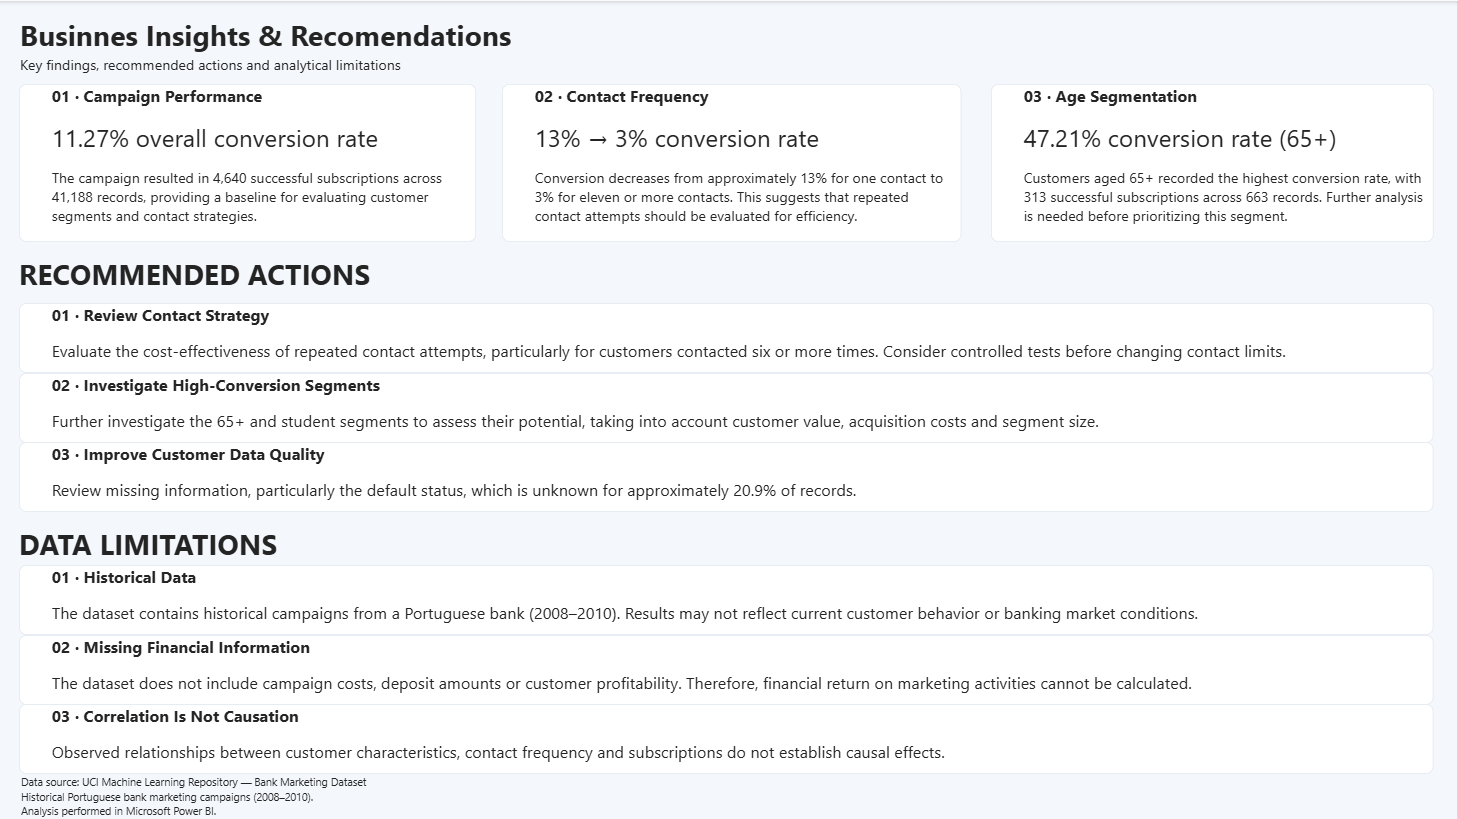

What the dashboard file says about the page in this screenshot:
{"tool":"powerbi","page":{"name":"Business Insights","canvas":[1920,1080],"ordinal":2},"visuals":[{"type":"textbox","box":[26.7,20,668.3,63.3],"z":0},{"type":"textbox","box":[26.7,71.7,550,48.3],"z":1000},{"type":"textbox","box":[24.7,109.7,601.7,208.3],"z":2000},{"type":"textbox","box":[661.3,109.7,605,208.3],"z":3000},{"type":"textbox","box":[1304.7,109.7,583.3,208.3],"z":4000},{"type":"textbox","box":[24.7,334.7,668.3,63.3],"z":5000},{"type":"textbox","box":[24.7,398,1863.3,91.7],"z":6000},{"type":"textbox","box":[24.7,489.7,1863.3,91.7],"z":7000},{"type":"textbox","box":[24.7,581.3,1863.3,91.7],"z":8000},{"type":"textbox","box":[24.7,689.7,668.3,63.3],"z":9000},{"type":"textbox","box":[24.7,743,1863.3,91.7],"z":10000},{"type":"textbox","box":[24.7,834.7,1863.3,91.7],"z":11000},{"type":"textbox","box":[24.7,926.3,1863.3,91.7],"z":12000},{"type":"textbox","box":[27,1020,745,60],"z":13000}]}

Visuals, with their boxes in screenshot pixels (x1, y1, x2, y2), scaled from the page's 1920x1080 canvas onto the 1458x819 screenshot:
textbox: x1=20, y1=15, x2=528, y2=63
textbox: x1=20, y1=54, x2=438, y2=91
textbox: x1=19, y1=83, x2=476, y2=241
textbox: x1=502, y1=83, x2=962, y2=241
textbox: x1=991, y1=83, x2=1434, y2=241
textbox: x1=19, y1=254, x2=526, y2=302
textbox: x1=19, y1=302, x2=1434, y2=371
textbox: x1=19, y1=371, x2=1434, y2=441
textbox: x1=19, y1=441, x2=1434, y2=510
textbox: x1=19, y1=523, x2=526, y2=571
textbox: x1=19, y1=563, x2=1434, y2=633
textbox: x1=19, y1=633, x2=1434, y2=703
textbox: x1=19, y1=702, x2=1434, y2=772
textbox: x1=21, y1=774, x2=586, y2=818
